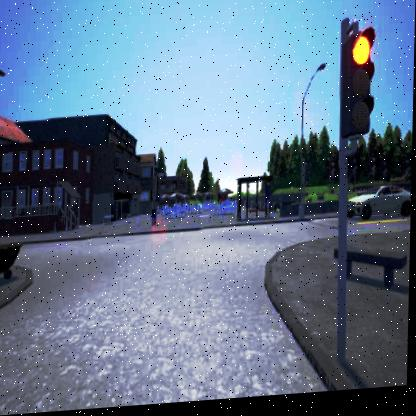vehicle: (347, 189, 412, 226)
